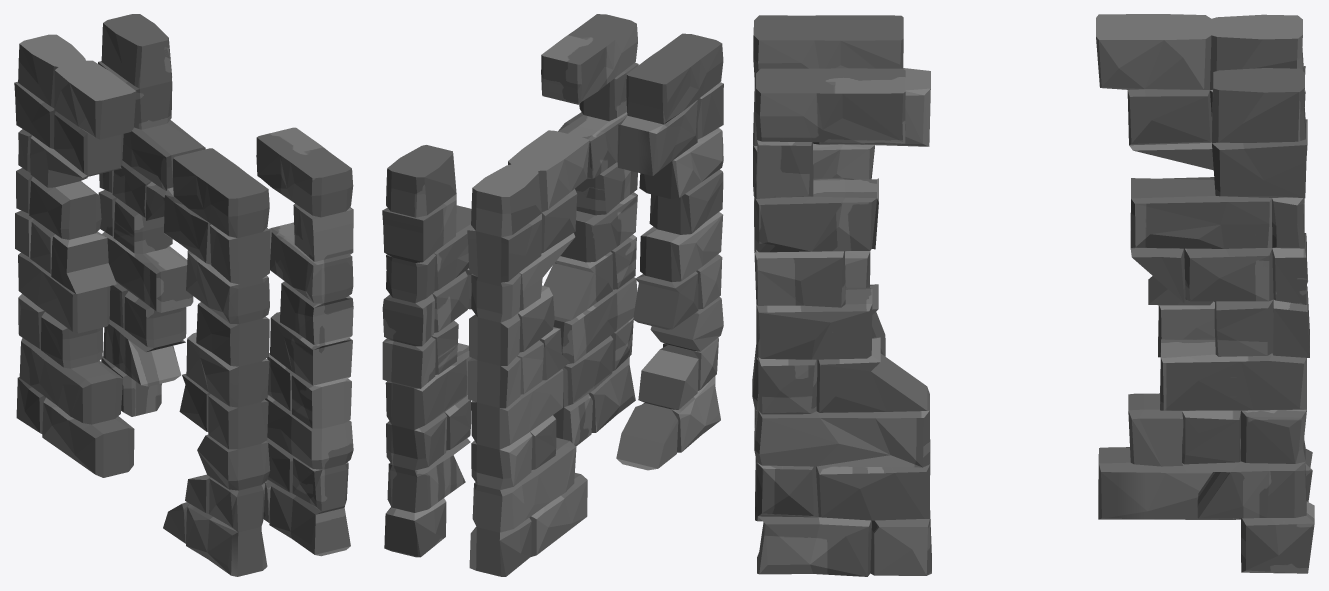
File: Pared rota.FBX
3 renders of one model, left to right at view 1: azimuth 30°, elevation 25°; view 2: azimuth 150°, elevation 25°; view 3: azimuth 270°, elevation 25°, orthographic. The views are drawn at different scales.
Visible parts, largest first — view 1: broken1, broken2, broken4, broken3; view 2: broken1, broken2, broken3, broken4; view 3: broken4, broken3, broken1, broken2.
Boxes of the visible parts, x1,y1,x2,y2 form: broken1: (14, 34, 136, 477); broken2: (163, 148, 270, 576); broken4: (256, 127, 353, 556); broken3: (98, 14, 205, 416); broken1: (467, 130, 589, 576); broken2: (616, 33, 723, 470); broken3: (382, 145, 472, 557); broken4: (541, 14, 638, 446); broken4: (754, 68, 931, 576); broken3: (1130, 68, 1314, 573); broken1: (1096, 14, 1312, 519); broken2: (752, 15, 930, 521).
Bounding box in the file's own units: 3.02 × 8.44 × 8.85.
1 material, 1 textured.
